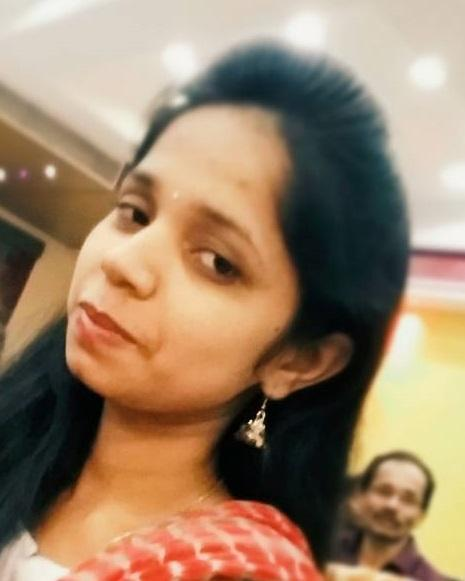No Mask: (43, 27, 422, 480), (350, 446, 443, 552)
